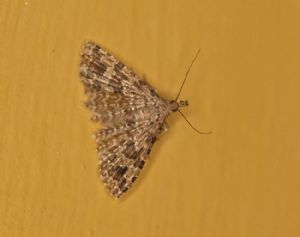Alucitidae: (76, 31, 210, 200)
moth: (74, 29, 208, 198)
